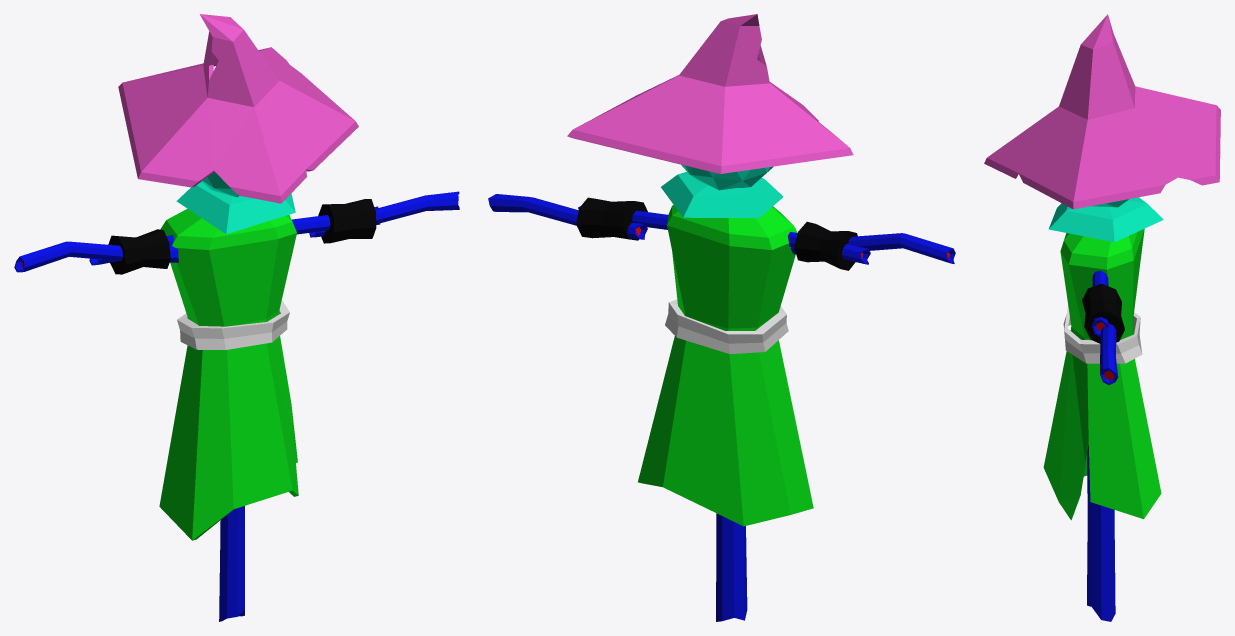
Rendered from SM_Scarecrow2.fbx.
3 renders of one model, left to right at view 1: azimuth 30°, elevation 25°; view 2: azimuth 150°, elevation 25°; view 3: azimuth 270°, elevation 25°, orthographic. The views are drawn at different scales.
Parts seen in each view (by area): view 1: SM_Scarecrow2; view 2: SM_Scarecrow2; view 3: SM_Scarecrow2.
Part boxes in pixels (x1,y1,x2,y2): SM_Scarecrow2: (14,14,459,621); SM_Scarecrow2: (488,14,955,621); SM_Scarecrow2: (984,14,1220,621).
Size of the model in its own units: 61.28 by 79.18 by 28.84.
